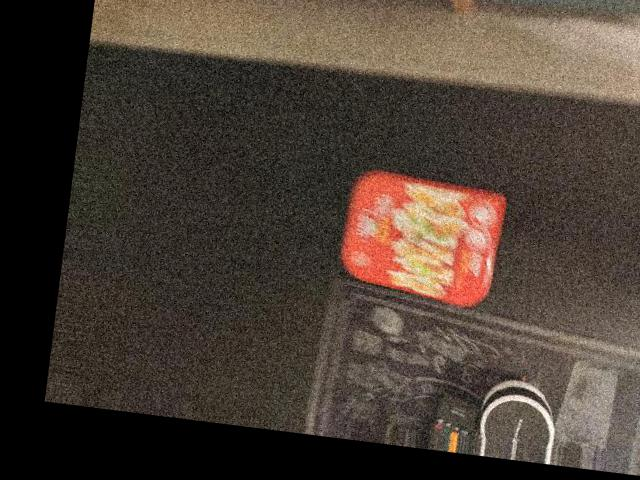cheese: (336, 166, 507, 310)
